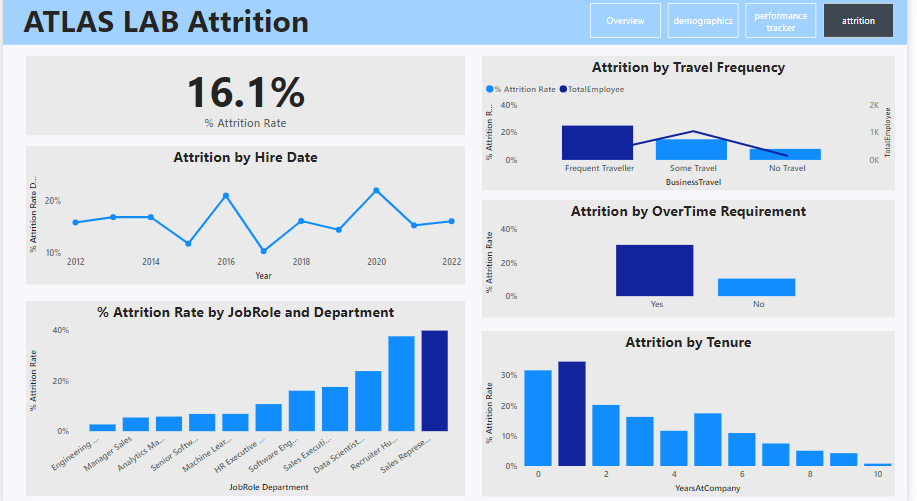

The page's visual inventory and layout, read from the dashboard file:
{"tool":"powerbi","page":{"name":"attrition","canvas":[1280,720],"ordinal":3},"visuals":[{"type":"card","fields":{"Values":["_Measures.% Attrition Rate"]},"box":[32.6,85,620.8,112],"z":0},{"type":"clusteredColumnChart","fields":{"Y":["_Measures.% Attrition Rate"],"Category":["DimEmployee.JobRole","DimEmployee.Department"]},"box":[32.6,430.9,620.8,276.4],"z":1000},{"type":"lineChart","title":" Attrition by Hire Date","fields":{"Y":["_Measures.% Attrition Rate Date"],"Category":["DimDate.Date.Variation.Date Hierarchy.Year","DimDate.Date.Variation.Date Hierarchy.Quarter","DimDate.Date.Variation.Date Hierarchy.Month","DimDate.Date.Variation.Date Hierarchy.Day"]},"box":[32.6,212.6,620.8,195.6],"z":2000},{"type":"lineClusteredColumnComboChart","title":"Attrition by Travel Frequency","fields":{"Category":["DimEmployee.BusinessTravel"],"Y":["_Measures.% Attrition Rate"],"Y2":["_Measures.TotalEmployee"]},"box":[677.5,85,583.9,189.9],"z":3000},{"type":"columnChart","title":"Attrition by OverTime Requirement","fields":{"Category":["DimEmployee.OverTime"],"Y":["_Measures.% Attrition Rate"]},"box":[677.5,289.1,583.9,165.8],"z":4000},{"type":"clusteredColumnChart","title":"Attrition  by Tenure","fields":{"Y":["_Measures.% Attrition Rate"],"Category":["DimEmployee.YearsAtCompany"]},"box":[677.5,473.4,583.9,233.9],"z":5000},{"type":"textbox","box":[0,0,1279.8,69.4],"z":6000},{"type":"pageNavigator","box":[830.3,9.9,431.4,49.5],"z":7000}]}

Visuals, with their boxes in screenshot pixels (x1, y1, x2, y2), scaled from the page's 1280x720 canvas onto the 917x501 screenshot:
card - _Measures.% Attrition Rate: left=23, top=59, right=468, bottom=137
clusteredColumnChart - _Measures.% Attrition Rate x DimEmployee.JobRole: left=23, top=300, right=468, bottom=492
" Attrition by Hire Date" lineChart: left=23, top=148, right=468, bottom=284
"Attrition by Travel Frequency" lineClusteredColumnComboChart: left=485, top=59, right=904, bottom=191
"Attrition by OverTime Requirement" columnChart: left=485, top=201, right=904, bottom=317
"Attrition  by Tenure" clusteredColumnChart: left=485, top=329, right=904, bottom=492
textbox: left=0, top=0, right=916, bottom=48
pageNavigator: left=595, top=7, right=904, bottom=41
